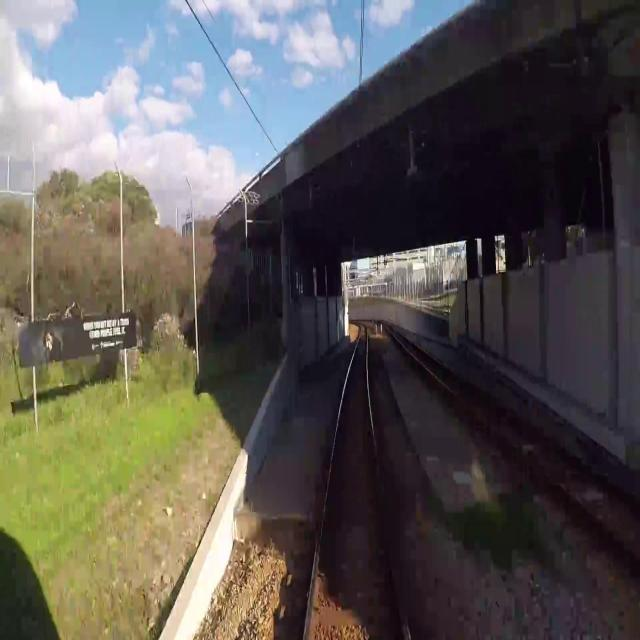rail-track: (384, 322, 640, 559), (307, 327, 406, 639)
